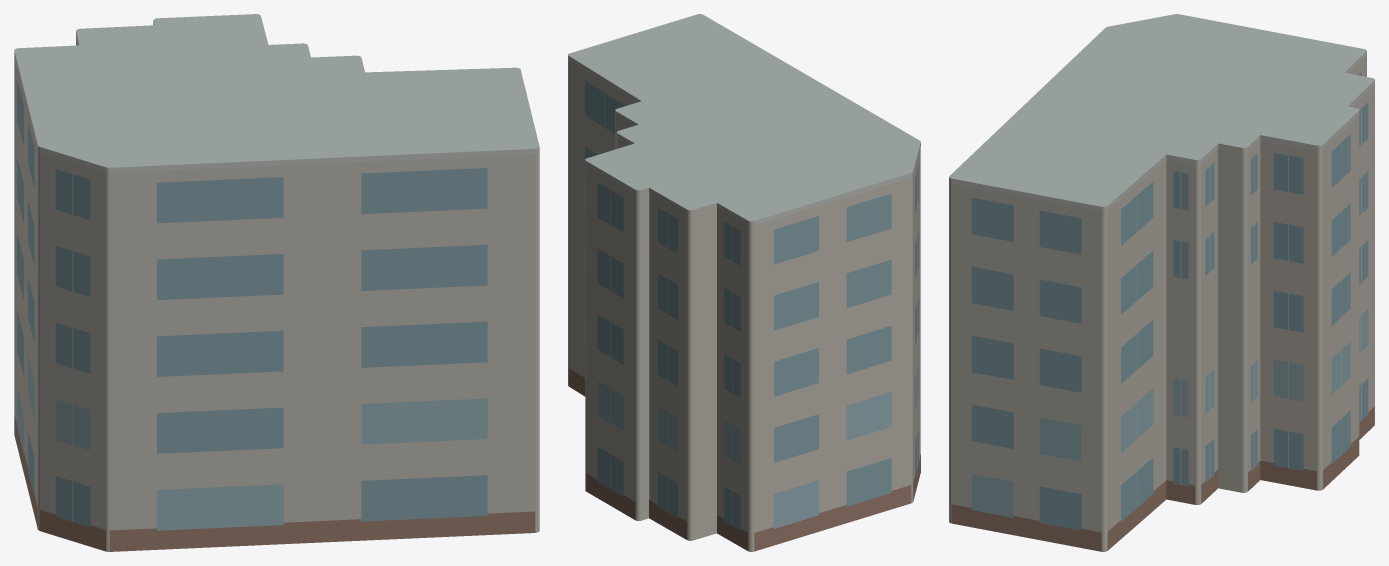
Rendered from survey-upis-33011037.glb.
The picture shows the model from 3 angles, left to right: view 1: azimuth 30°, elevation 25°; view 2: azimuth 150°, elevation 25°; view 3: azimuth 270°, elevation 25°; orthographic projection. The views are drawn at different scales.
Visible parts, largest first — view 1: survey-upis-33011037.tmp; view 2: survey-upis-33011037.tmp; view 3: survey-upis-33011037.tmp.
Part boxes in pixels (<box>): survey-upis-33011037.tmp: <box>14,14,539,551</box>; survey-upis-33011037.tmp: <box>568,14,920,551</box>; survey-upis-33011037.tmp: <box>949,14,1374,551</box>.
Bounding box in the file's own units: 20.4 × 17 × 19.02.
